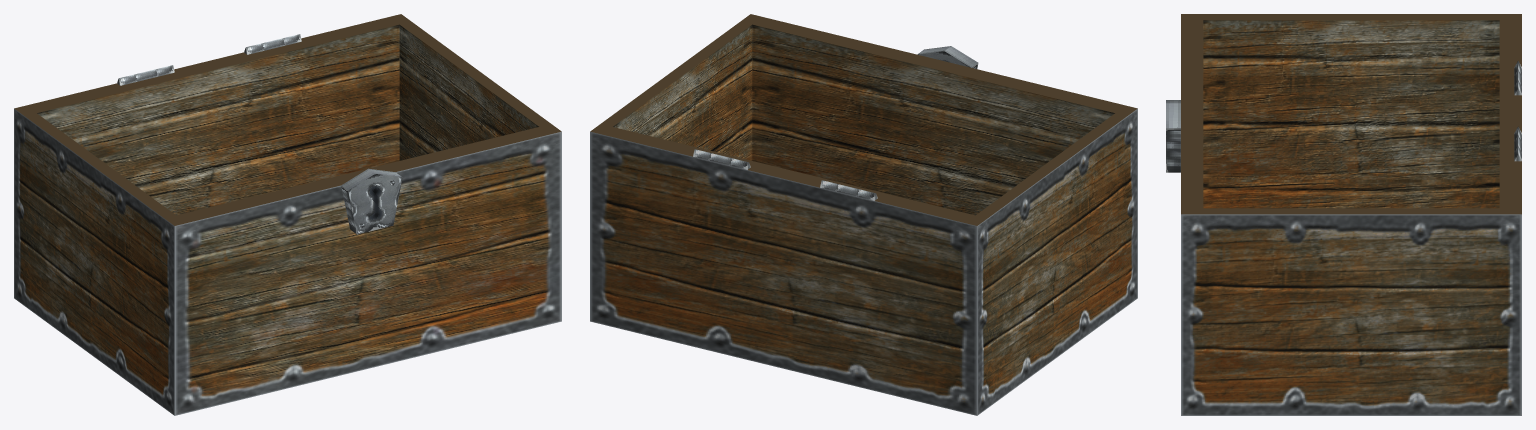
File: chest.obj
3 renders of one model, left to right at view 1: azimuth 30°, elevation 25°; view 2: azimuth 150°, elevation 25°; view 3: azimuth 270°, elevation 25°, orthographic. The views are drawn at different scales.
Parts seen in each view (by area): view 1: base; view 2: base; view 3: base.
Part boxes in pixels (x1,y1,x2,y2): base: (14,14,561,415); base: (590,14,1137,415); base: (1166,14,1521,415).
Bounding box in the file's own units: 6.4 × 3.16 × 4.8.
Materials: 6 (6 with a texture image).
